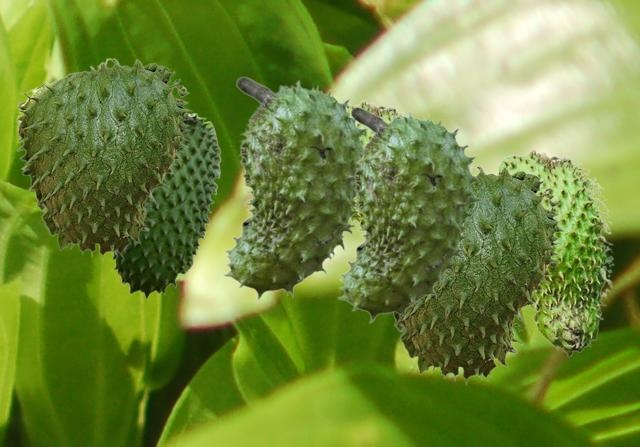guyabano: (392, 164, 565, 385), (16, 57, 193, 260), (221, 76, 367, 301), (336, 106, 485, 323), (496, 148, 614, 356), (110, 112, 220, 298), (347, 99, 405, 232)
